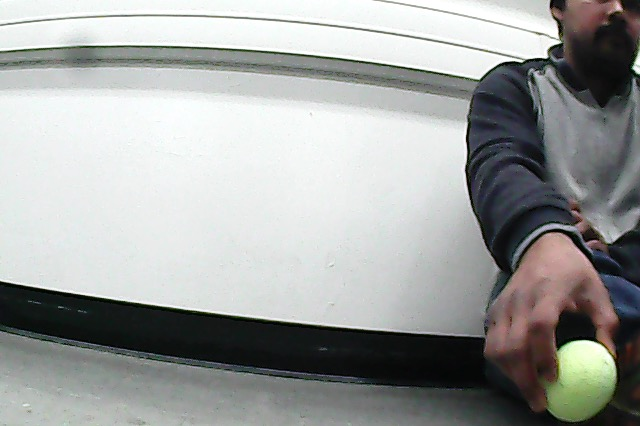ball: (535, 337, 622, 425)
